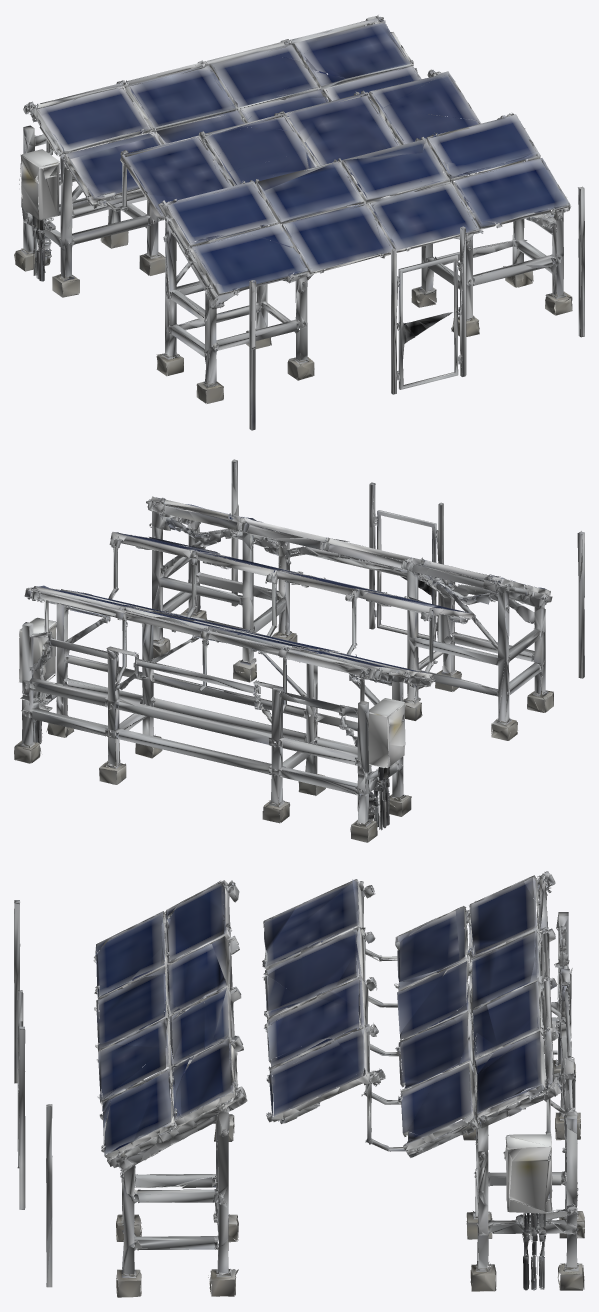
The model's file is solar.glb.
3 renders of one model, top to bottom at view 1: azimuth 30°, elevation 25°; view 2: azimuth 150°, elevation 25°; view 3: azimuth 270°, elevation 25°, orthographic. The views are drawn at different scales.
Parts seen in each view (by area): view 1: LO.001; view 2: LO.001; view 3: LO.001.
Part boxes in pixels (x1,y1,x2,y2): LO.001: [14, 14, 584, 430]; LO.001: [14, 459, 584, 842]; LO.001: [14, 871, 584, 1297].
Bounding box in the file's own units: 1.8 × 0.782 × 1.92.
1 material, 1 textured.
